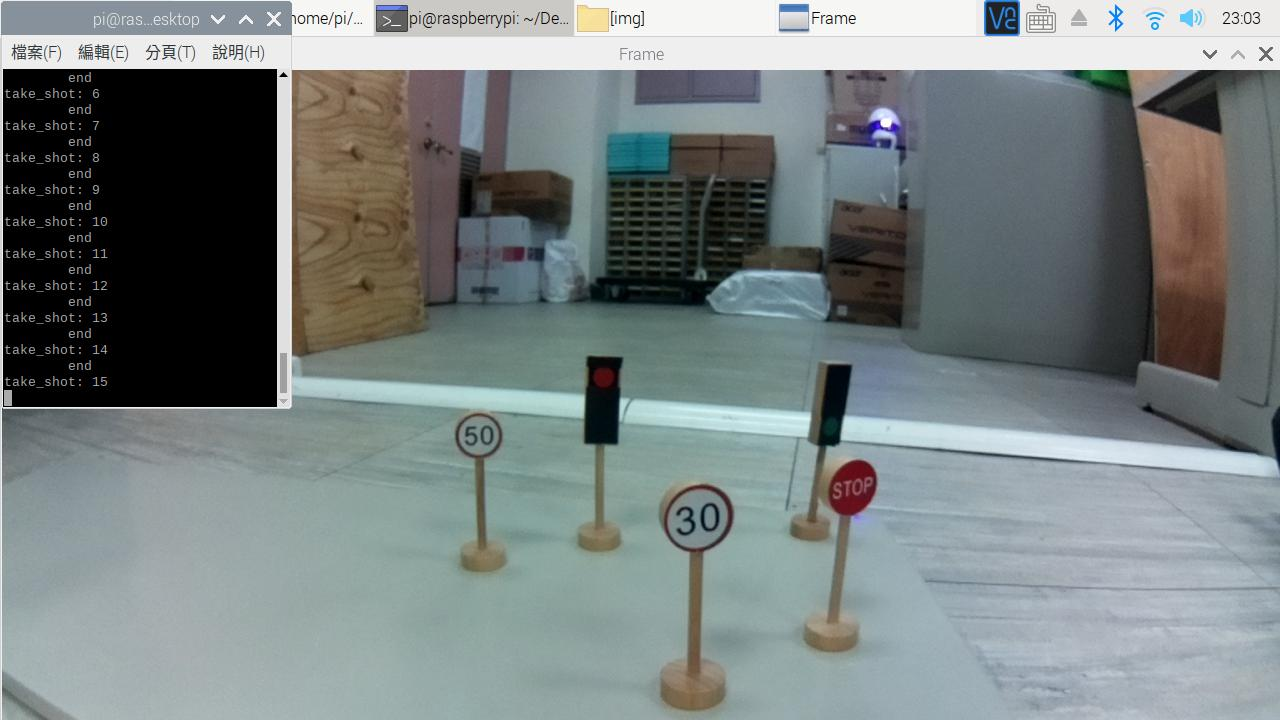Green: (819, 359, 844, 440)
Red: (583, 356, 620, 448)
Speed30: (657, 478, 735, 551)
Speed50: (454, 413, 506, 461)
Stop: (818, 455, 881, 522)
